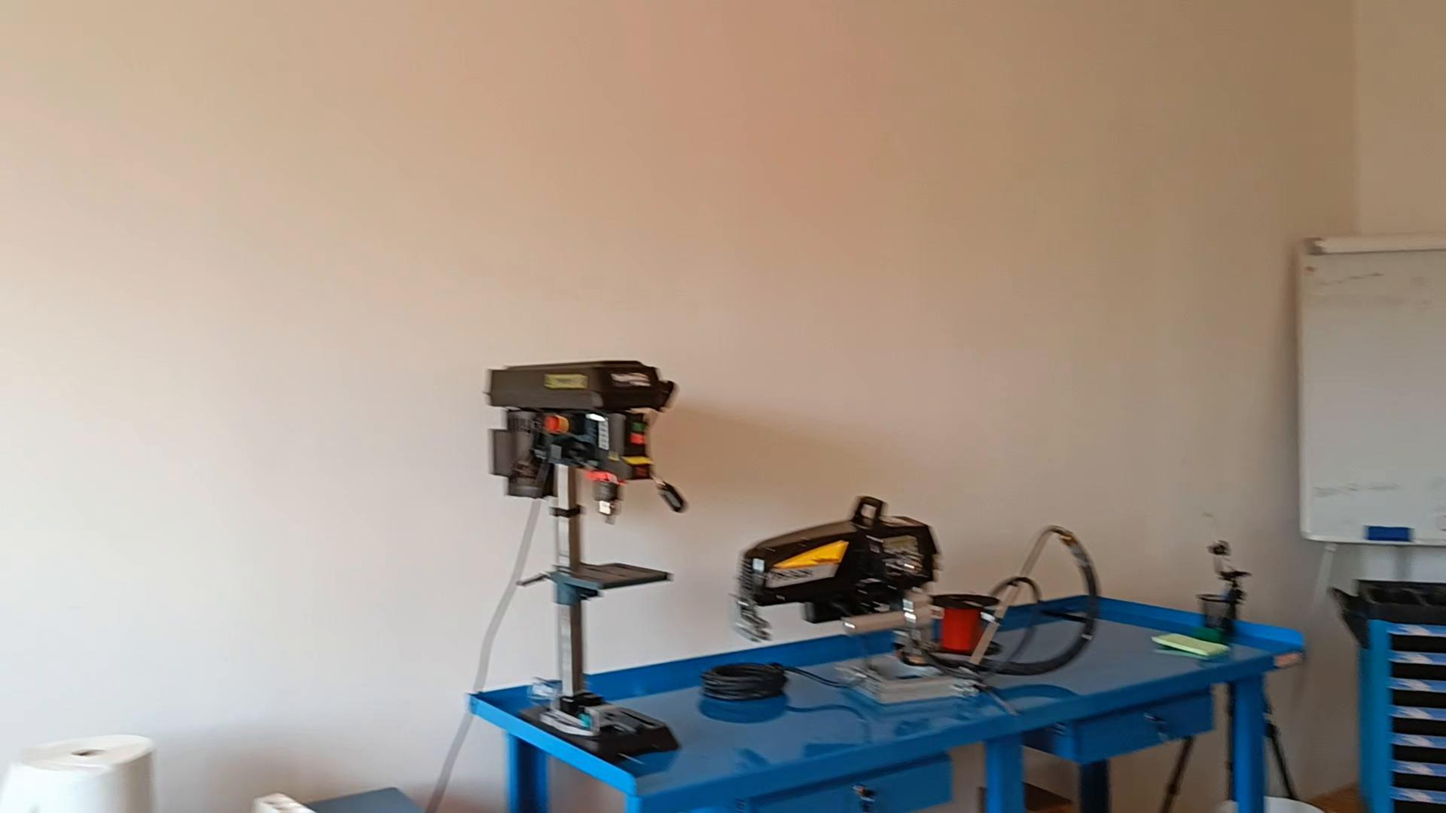wall: (0, 0, 1445, 811)
